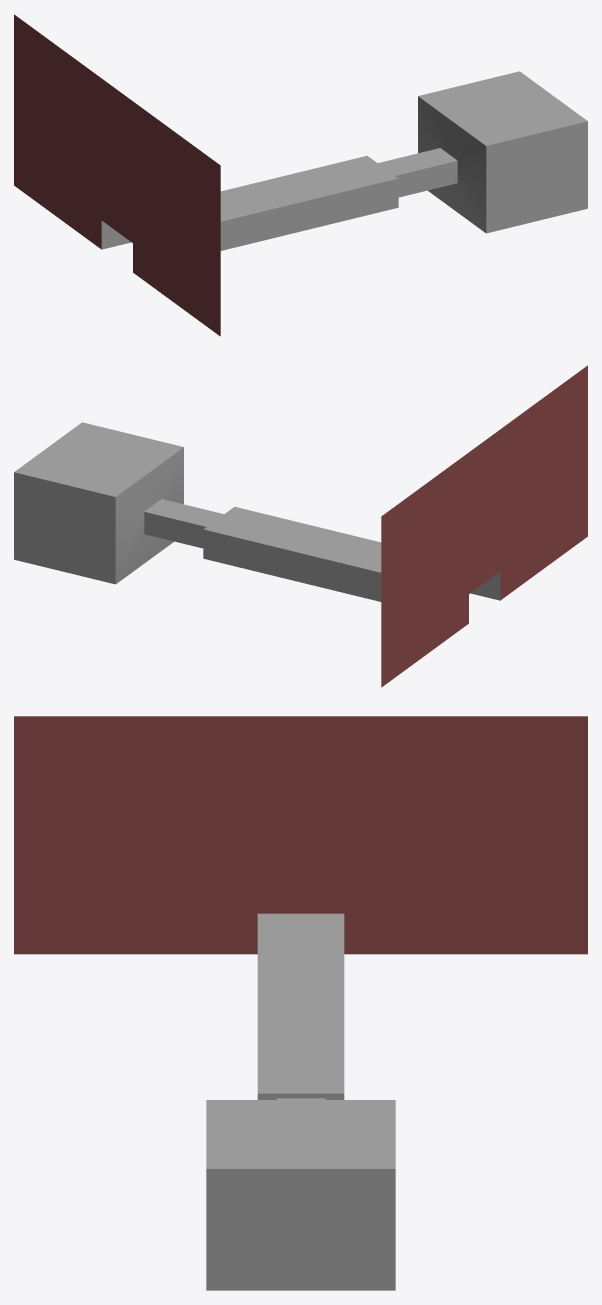
Rendered from SM_WallVent.fbx.
The picture shows the model from 3 angles, top to bottom: view 1: azimuth 30°, elevation 25°; view 2: azimuth 150°, elevation 25°; view 3: azimuth 270°, elevation 25°; orthographic projection. The views are drawn at different scales.
Parts seen in each view (by area): view 1: pPlane9; view 2: pPlane9; view 3: pPlane9.
Part boxes in pixels (<box>): pPlane9: <box>14,14,587,336</box>; pPlane9: <box>14,365,587,687</box>; pPlane9: <box>14,716,587,1290</box>.
Bounding box in the file's own units: 8536 × 3744 × 7000.
